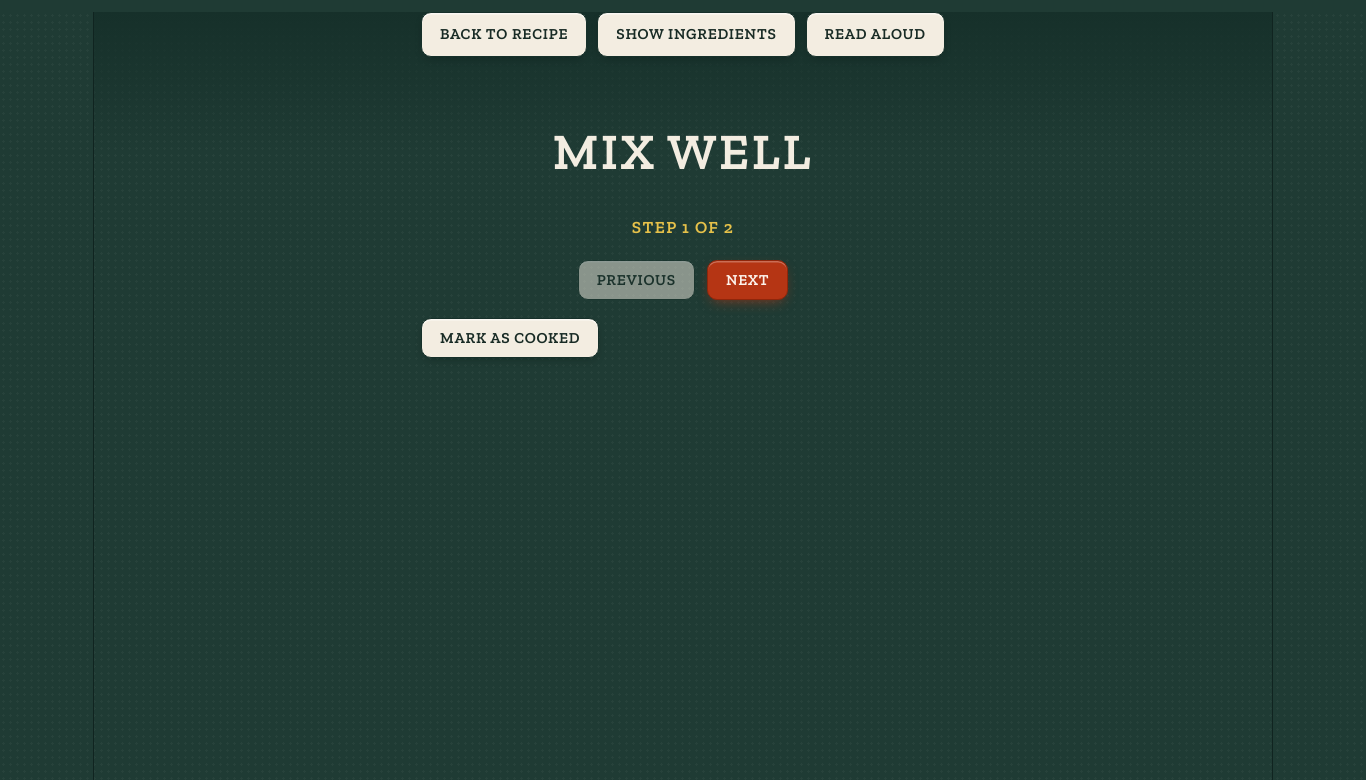
marking as cooked logs once and is not offered again
Click the button "Mark as cooked". click: point(510, 338)
box: [421,318,599,358]
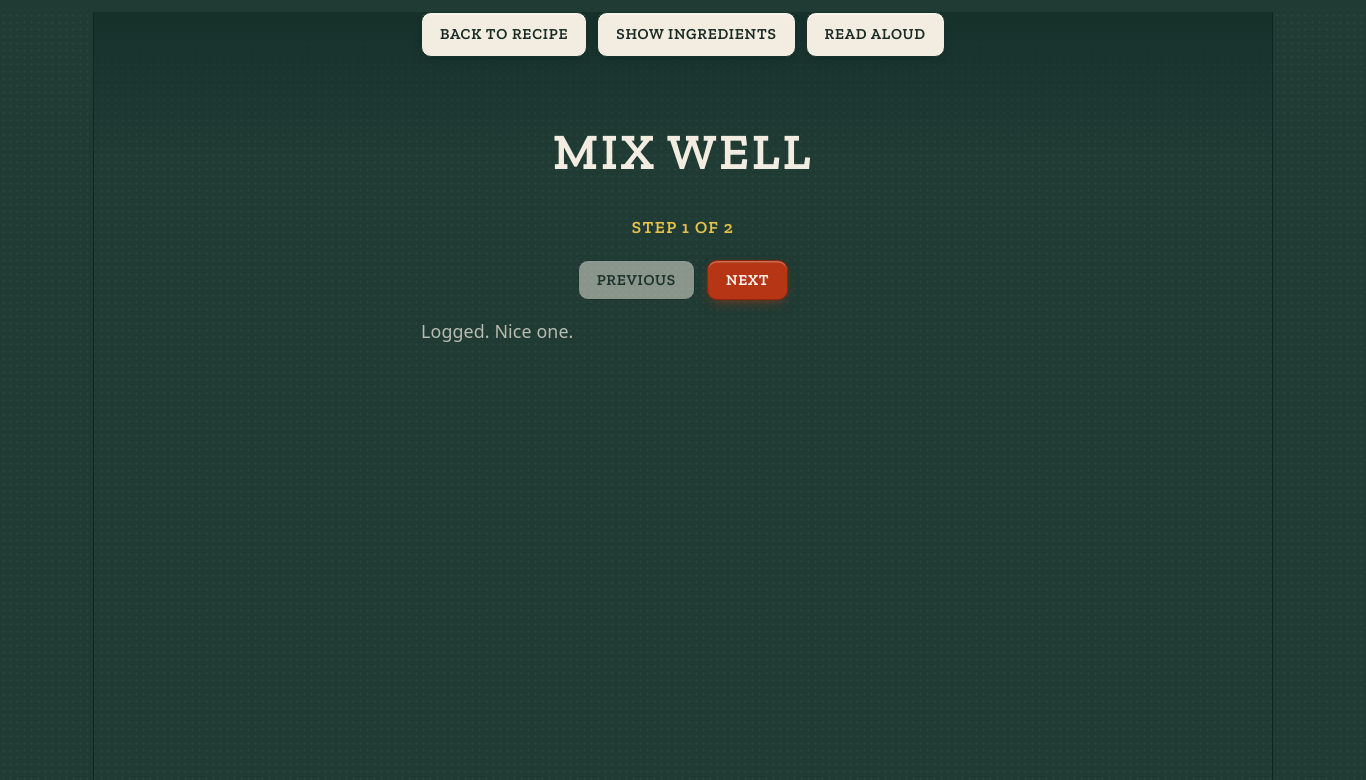
Result: the message reads "Logged. Nice one." at [421,319,574,343]
Result: the button "Mark as cooked" is gone
